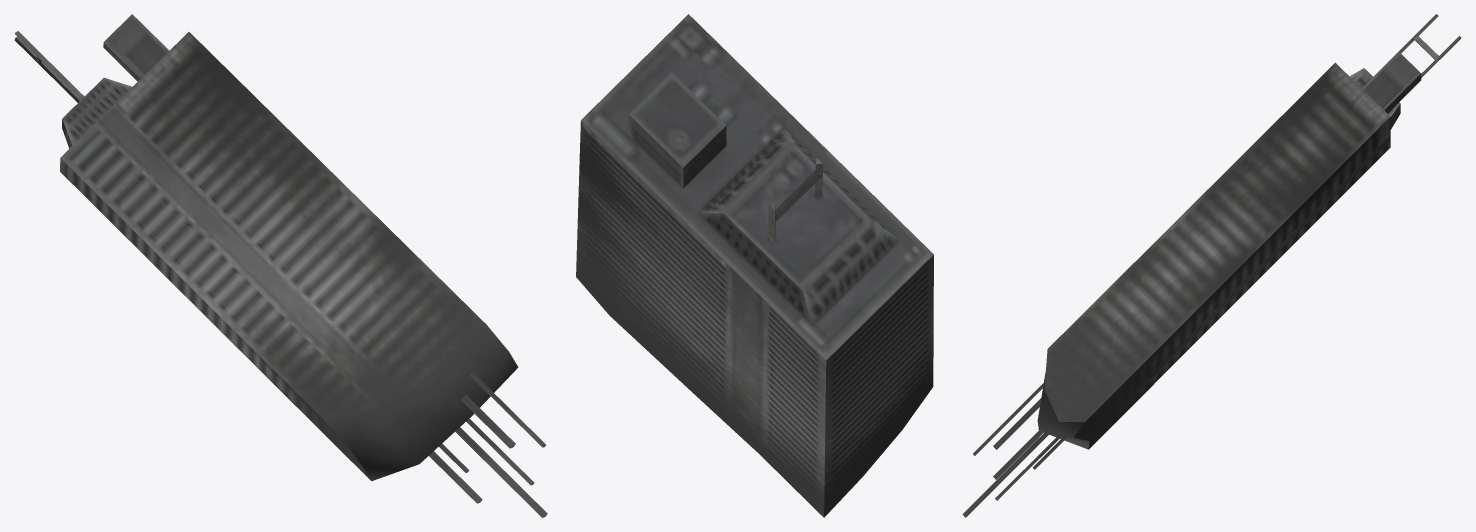
Rendered from skyBuildingAAC_pos_grp (31).fbx.
3 views of the same model, side by side, from view 1: azimuth 30°, elevation 25°; view 2: azimuth 150°, elevation 25°; view 3: azimuth 270°, elevation 25° (orthographic). The views are drawn at different scales.
Visible parts, largest first — view 1: skyBuildingAAC_geo; view 2: skyBuildingAAC_geo; view 3: skyBuildingAAC_geo.
Part boxes in pixels (left/top/right/bottom): skyBuildingAAC_geo: left=14, top=14, right=547, bottom=517; skyBuildingAAC_geo: left=576, top=14, right=933, bottom=517; skyBuildingAAC_geo: left=962, top=14, right=1461, bottom=517.
Size of the model in its own units: 7.76 by 9.06 by 10.89.
1 material, 1 textured.
